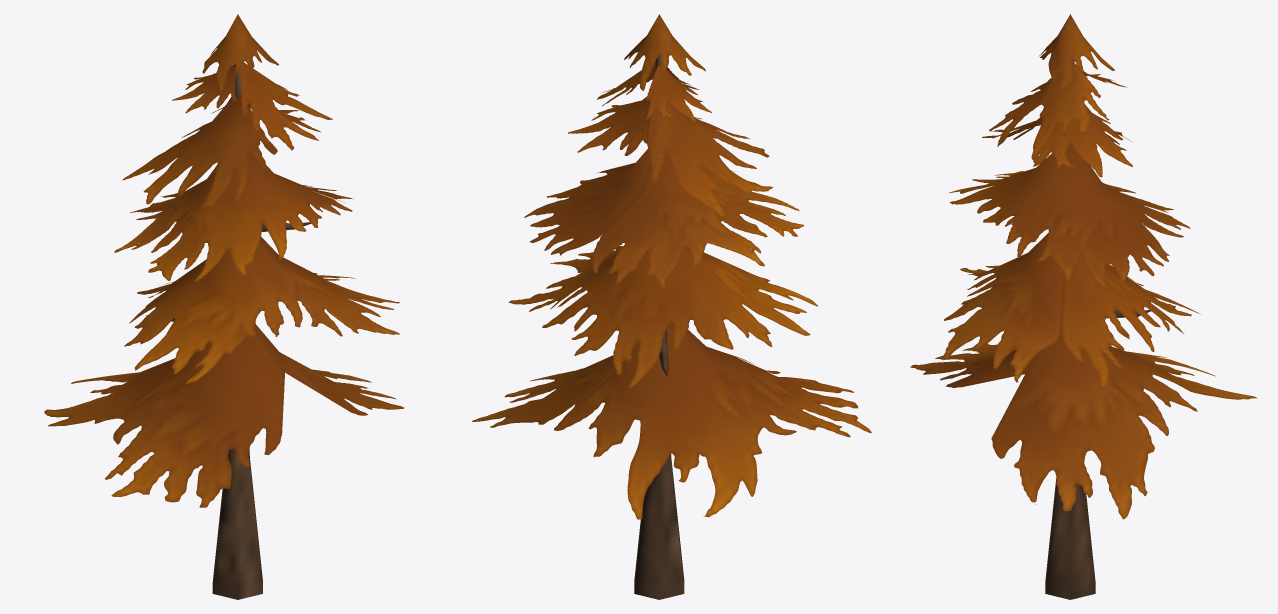
Rendered from new_tree_red_4.FBX.
The picture shows the model from 3 angles, left to right: view 1: azimuth 30°, elevation 25°; view 2: azimuth 150°, elevation 25°; view 3: azimuth 270°, elevation 25°; orthographic projection.
Visible parts, largest first — view 1: new_tree_red_4; view 2: new_tree_red_4; view 3: new_tree_red_4.
Part boxes in pixels (x1,y1,x2,y2): new_tree_red_4: (44,14,405,599); new_tree_red_4: (472,14,871,599); new_tree_red_4: (910,14,1257,599).
Size of the model in its own units: 64.69 by 101 by 57.63.
1 material, 1 textured.
